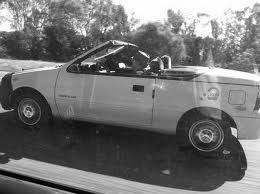car: (1, 37, 260, 161)
